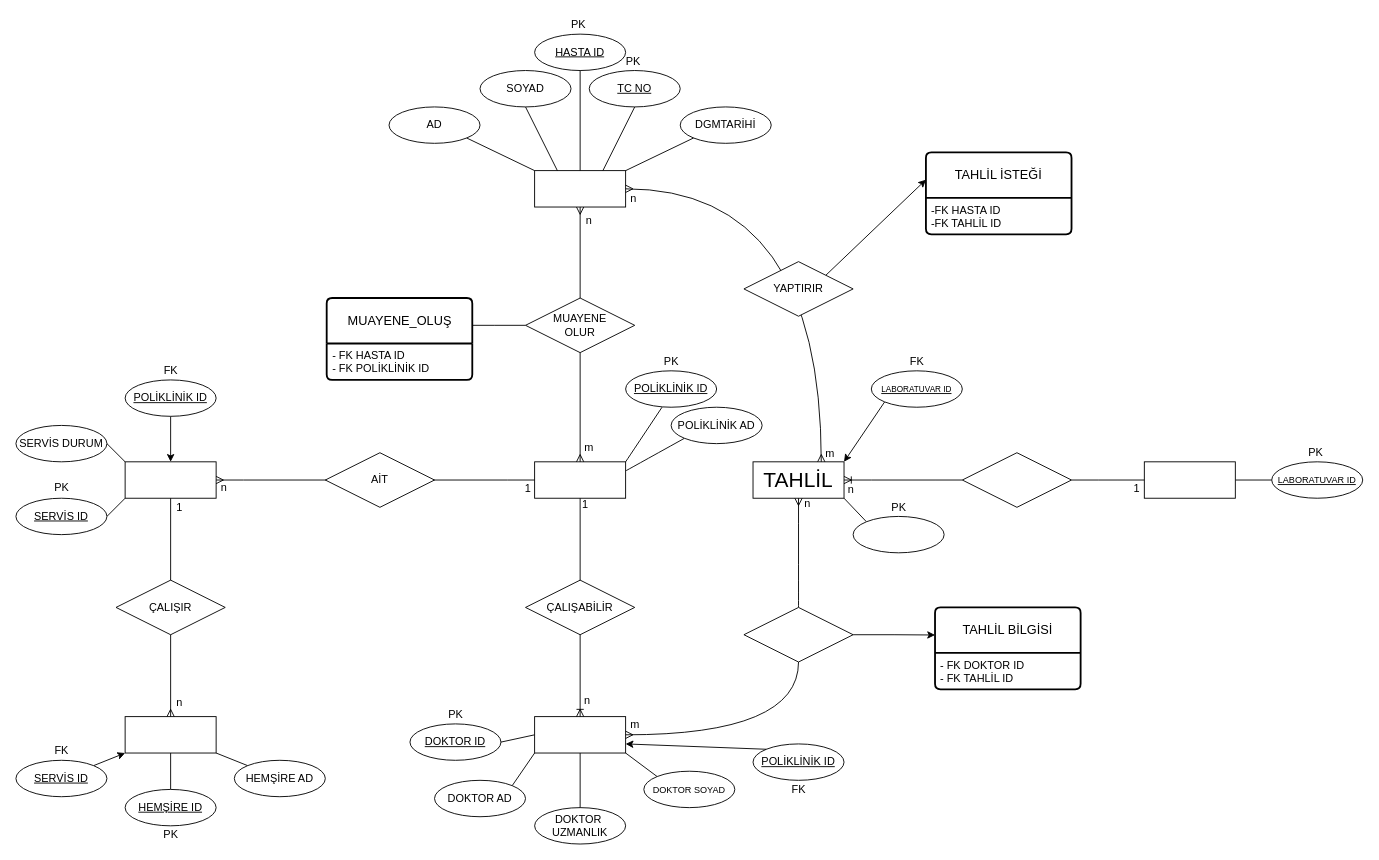
The diagram is 1379 pixels wide and 860 high, and some of its shapes have lost their labels. Here are the shapes that lost their labels. From the top down, the centre of each, then its label:
At point 580,188: "HASTA".
At point 170,479: "SERVİS".
At point 580,479: "POLİKLİNİK".
At point 1016,479: "YAPILIR".
At point 1189,479: "LABORATUVAR".
At point 898,534: "TAHLİL ID".
At point 798,634: "İSTER".
At point 170,734: "HEMŞİRE".
At point 580,734: "DOKTOR".
